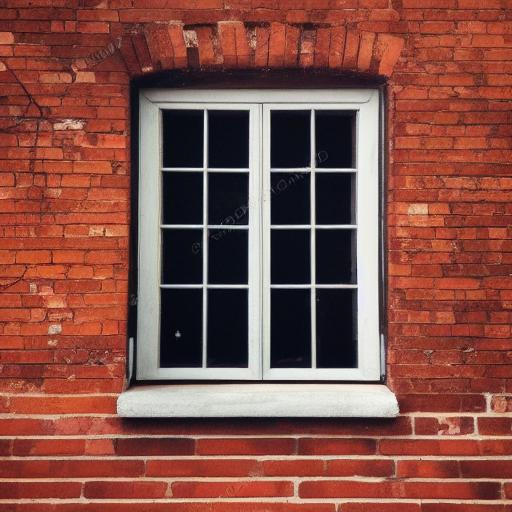Window: (118, 26, 408, 419)
